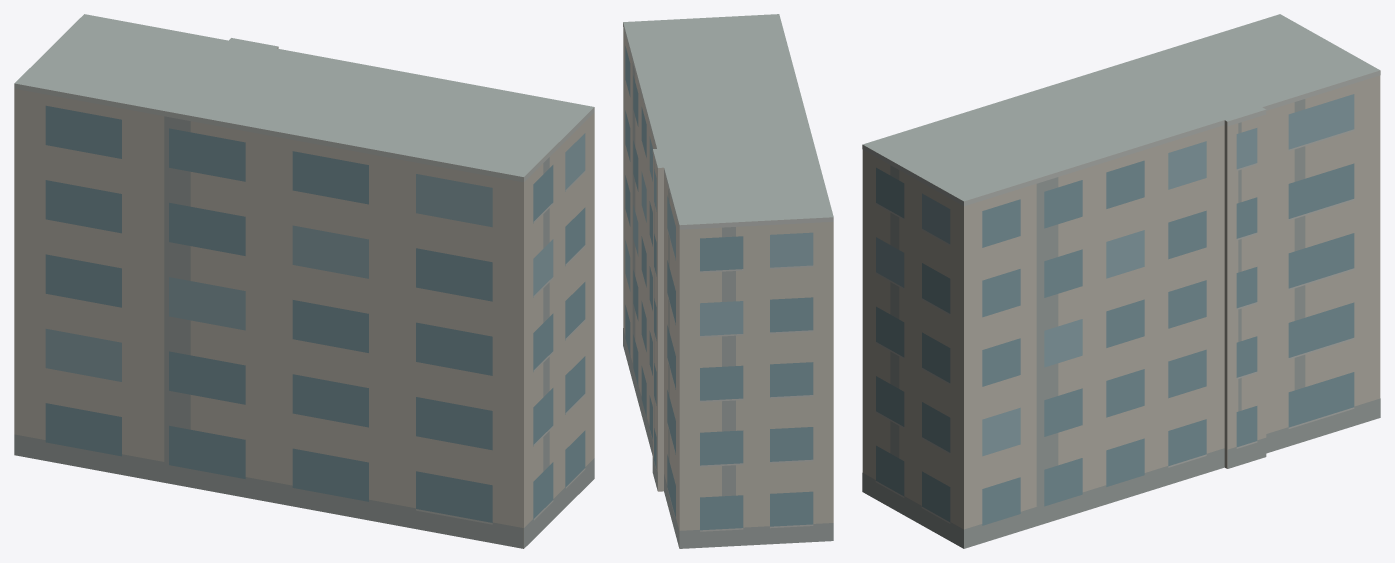
Rendered from survey-upis-33023384.glb.
The picture shows the model from 3 angles, left to right: view 1: azimuth 30°, elevation 25°; view 2: azimuth 150°, elevation 25°; view 3: azimuth 270°, elevation 25°; orthographic projection. The views are drawn at different scales.
Parts seen in each view (by area): view 1: survey-upis-33023384.tmp; view 2: survey-upis-33023384.tmp; view 3: survey-upis-33023384.tmp.
Boxes of the visible parts, left/top/right/bottom form: survey-upis-33023384.tmp: left=14, top=14, right=594, bottom=548; survey-upis-33023384.tmp: left=623, top=14, right=833, bottom=548; survey-upis-33023384.tmp: left=862, top=14, right=1380, bottom=548.
Size of the model in its own units: 19.8 by 17.1 by 23.11.
